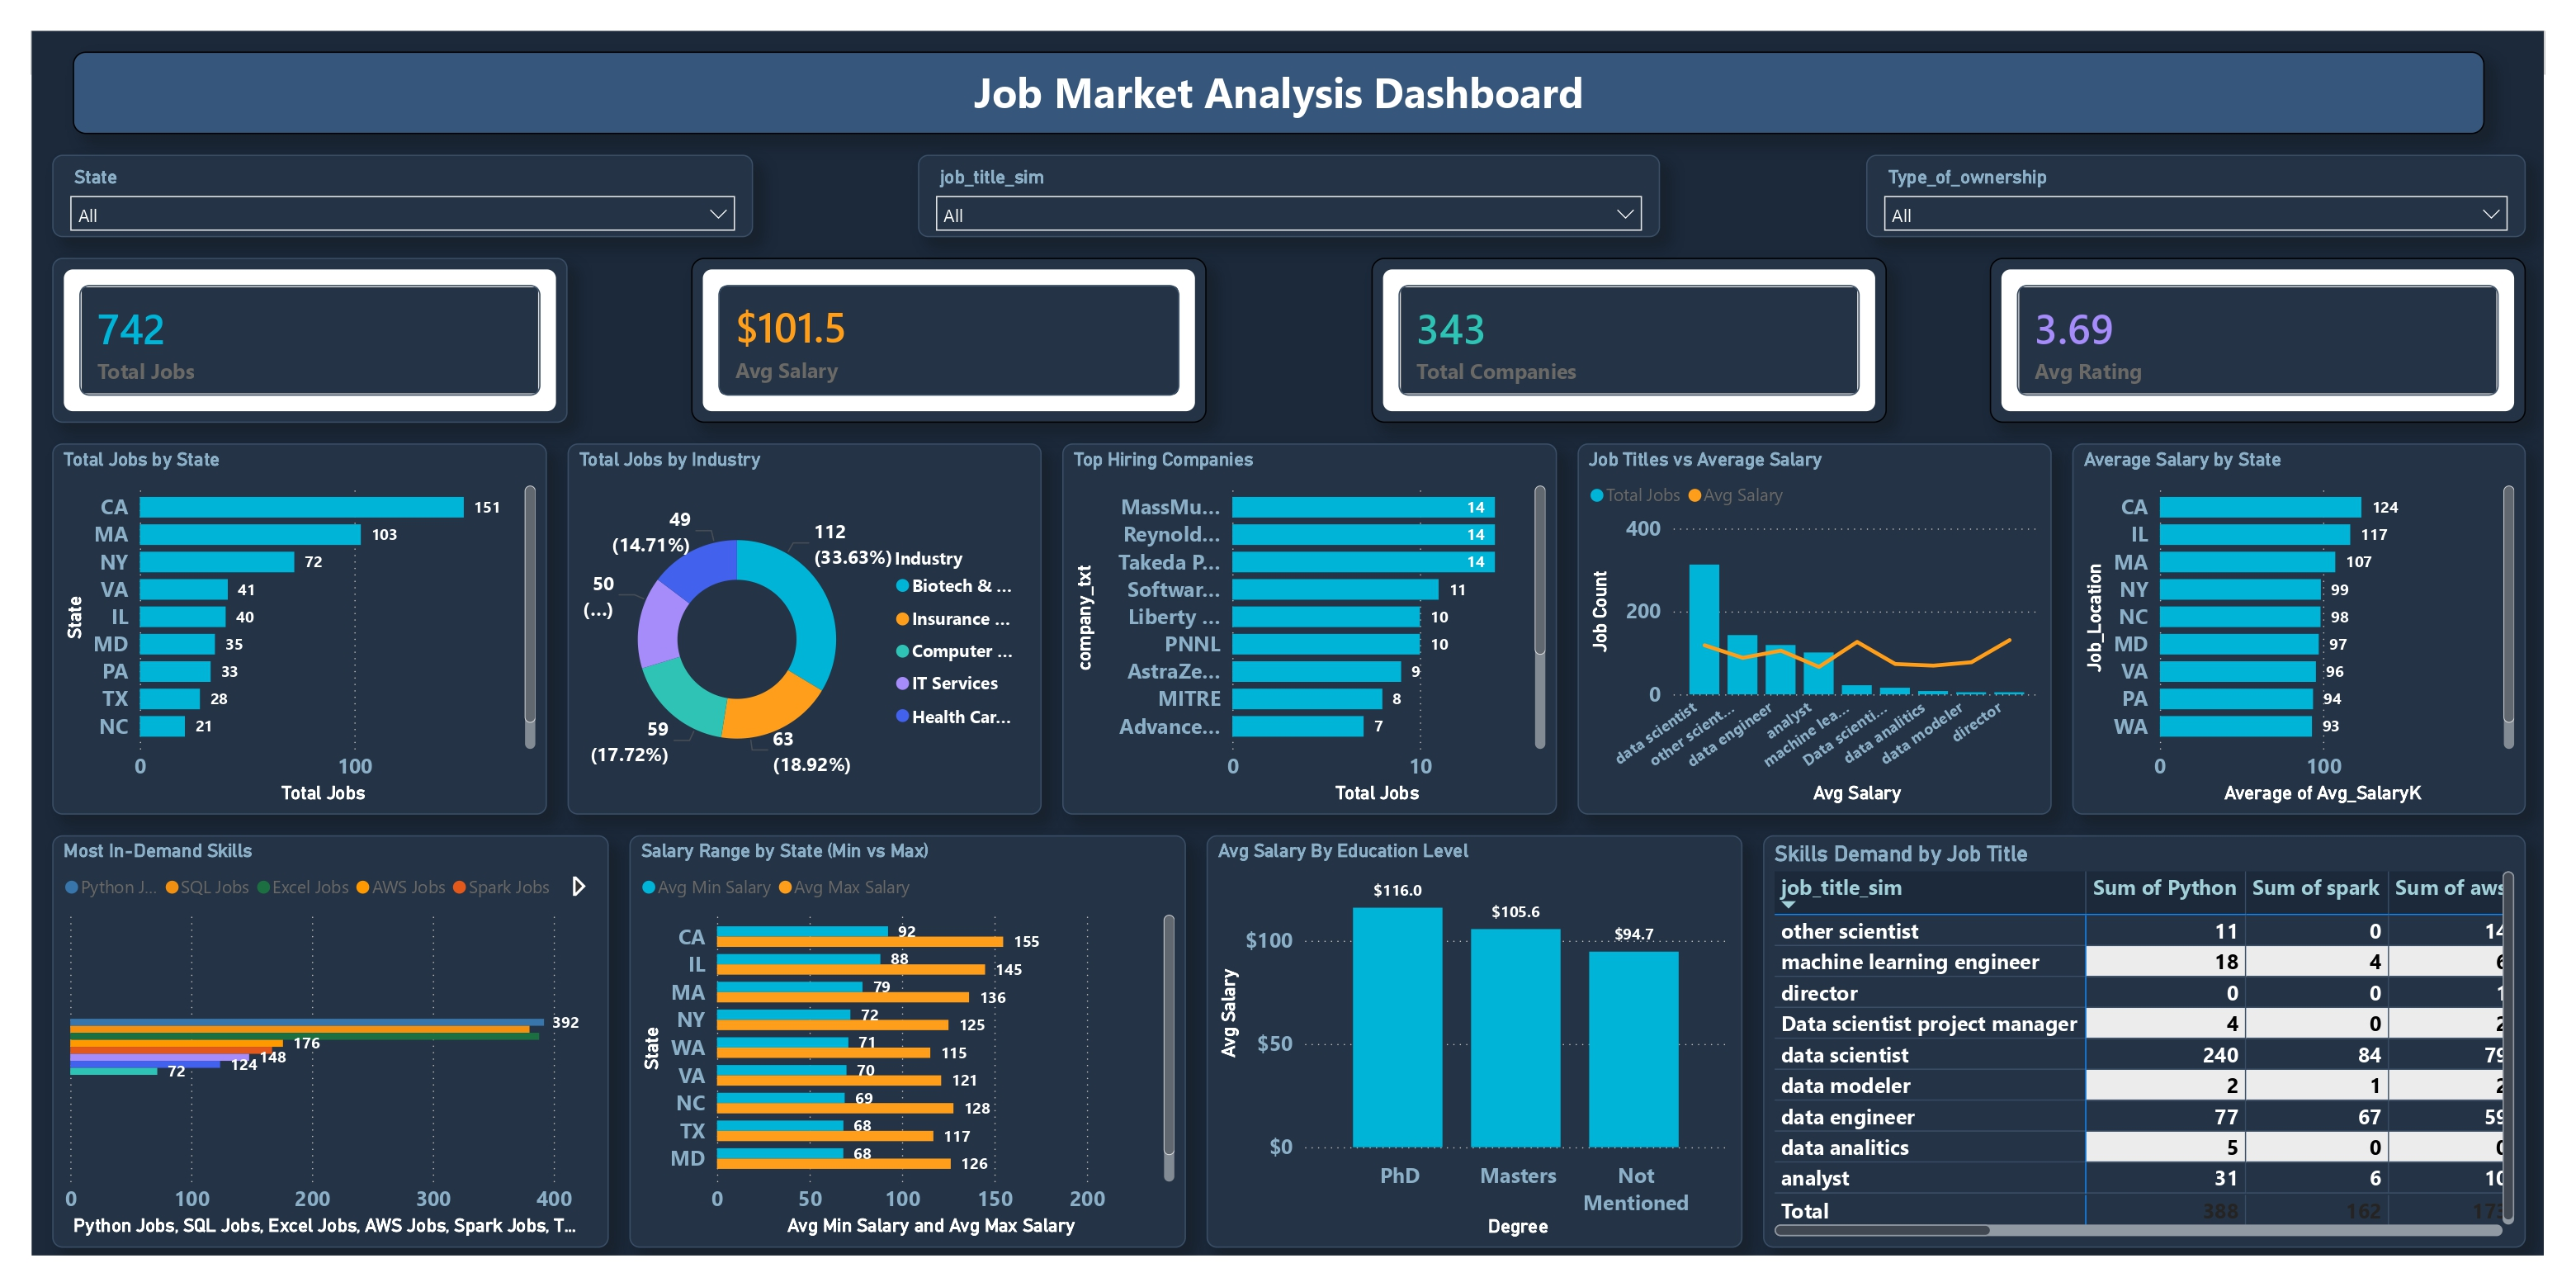

Layout of this report page (visuals, bound fields, positions):
{"tool":"powerbi","page":{"name":"Page 1","canvas":[1950,950],"ordinal":0},"visuals":[{"type":"cardVisual","fields":{"Data":["job market data.Total Jobs"]},"box":[16,176,400,128],"z":0},{"type":"cardVisual","fields":{"Data":["job market data.Avg Salary"]},"box":[512,176,400,128],"z":1000},{"type":"cardVisual","fields":{"Data":["job market data.Total Companies"]},"box":[1040,176,400,128],"z":2000},{"type":"cardVisual","fields":{"Data":["job market data.Avg Rating"]},"box":[1520,176,416,128],"z":3000},{"type":"clusteredBarChart","fields":{"Category":["job market data.State"],"Y":["job market data.Total Jobs"]},"box":[16,320,384,288],"z":4000},{"type":"donutChart","fields":{"Category":["job market data.Industry"],"Y":["job market data.Total Jobs"]},"box":[416,320,368,288],"z":5000},{"type":"clusteredBarChart","title":"Top Hiring Companies","fields":{"Category":["job market data.company_txt"],"Y":["job market data.Total Jobs"]},"box":[800,320,384,288],"z":6000},{"type":"lineClusteredColumnComboChart","title":"Job Titles vs Average Salary","fields":{"Category":["job market data.job_title_sim"],"Y":["job market data.Total Jobs"],"Y2":["job market data.Avg Salary"]},"box":[1200,320,368,288],"z":7000},{"type":"clusteredBarChart","title":"Most In-Demand Skills","fields":{"Y":["job market data.Python Jobs","job market data.SQL Jobs","job market data.Excel Jobs","job market data.AWS Jobs","job market data.Spark Jobs","job market data.Tableau Jobs","job market data.Hadoop Jobs","job market data.TensorFlow Jobs"]},"box":[16,624,432,320],"z":8000},{"type":"pivotTable","title":"Skills Demand by Job Title","fields":{"Rows":["job market data.job_title_sim"],"Values":["Sum(job market data.Python)","Sum(job market data.spark)","Sum(job market data.aws)","Sum(job market data.excel)","Sum(job market data.sql_)","Sum(job market data.tableau)","Sum(job market data.hadoop)","Sum(job market data.tensor)","Sum(job market data.sas)","Sum(job market data.bi)"]},"box":[1344,624,592,320],"z":9000},{"type":"clusteredBarChart","title":"Salary Range by State (Min vs Max)","fields":{"Category":["job market data.State"],"Y":["job market data.Avg Min Salary","job market data.Avg Max Salary"]},"box":[464,624,432,320],"z":10000},{"type":"clusteredColumnChart","title":"Avg Salary By Education Level","fields":{"Category":["job market data.Degree"],"Y":["job market data.Avg Salary"]},"box":[912,624,416,320],"z":11000},{"type":"slicer","fields":{"Values":["job market data.State"]},"box":[16,96,544,64],"z":12000},{"type":"slicer","fields":{"Values":["job market data.job_title_sim"]},"box":[688,96,576,64],"z":13000},{"type":"slicer","fields":{"Values":["job market data.Type_of_ownership"]},"box":[1424,96,512,64],"z":14000},{"type":"textbox","box":[32,16,1872,64],"z":15000},{"type":"clusteredBarChart","title":"Average Salary by State","fields":{"Category":["job market data.Job_Location"],"Y":["Avg(job market data.Avg_SalaryK)"]},"box":[1584,320,352,288],"z":16000}]}

Visuals, with their boxes in screenshot pixels (x1, y1, x2, y2):
cardVisual - job market data.Total Jobs: box(27, 229, 549, 396)
cardVisual - job market data.Avg Salary: box(674, 229, 1195, 396)
cardVisual - job market data.Total Companies: box(1362, 229, 1883, 396)
cardVisual - job market data.Avg Rating: box(1987, 229, 2529, 396)
clusteredBarChart - job market data.State x job market data.Total Jobs: box(27, 417, 527, 793)
donutChart - job market data.Industry x job market data.Total Jobs: box(549, 417, 1028, 793)
"Top Hiring Companies" clusteredBarChart: box(1049, 417, 1549, 793)
"Job Titles vs Average Salary" lineClusteredColumnComboChart: box(1570, 417, 2049, 793)
"Most In-Demand Skills" clusteredBarChart: box(27, 813, 590, 1230)
"Skills Demand by Job Title" pivotTable: box(1757, 813, 2529, 1230)
"Salary Range by State (Min vs Max)" clusteredBarChart: box(612, 813, 1174, 1230)
"Avg Salary By Education Level" clusteredColumnChart: box(1195, 813, 1737, 1230)
slicer - job market data.State: box(27, 125, 736, 209)
slicer - job market data.job_title_sim: box(903, 125, 1653, 209)
slicer - job market data.Type_of_ownership: box(1862, 125, 2529, 209)
textbox: box(49, 21, 2487, 104)
"Average Salary by State" clusteredBarChart: box(2070, 417, 2529, 793)
